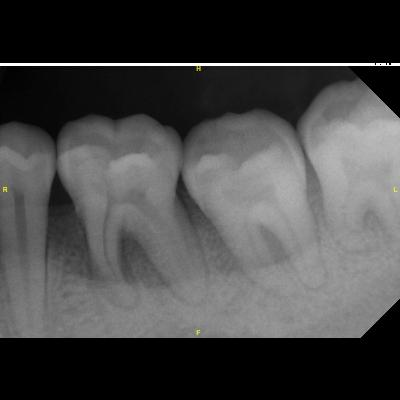tooth: (0, 119, 56, 336)
